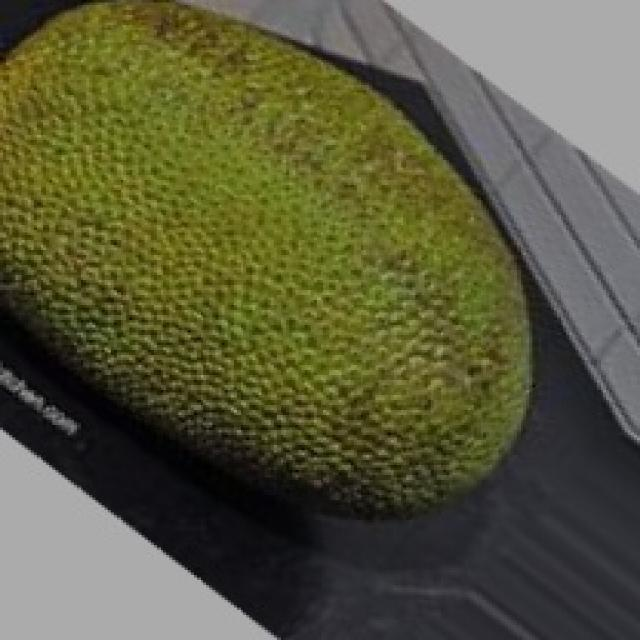Fruit: (262, 135, 582, 557)
